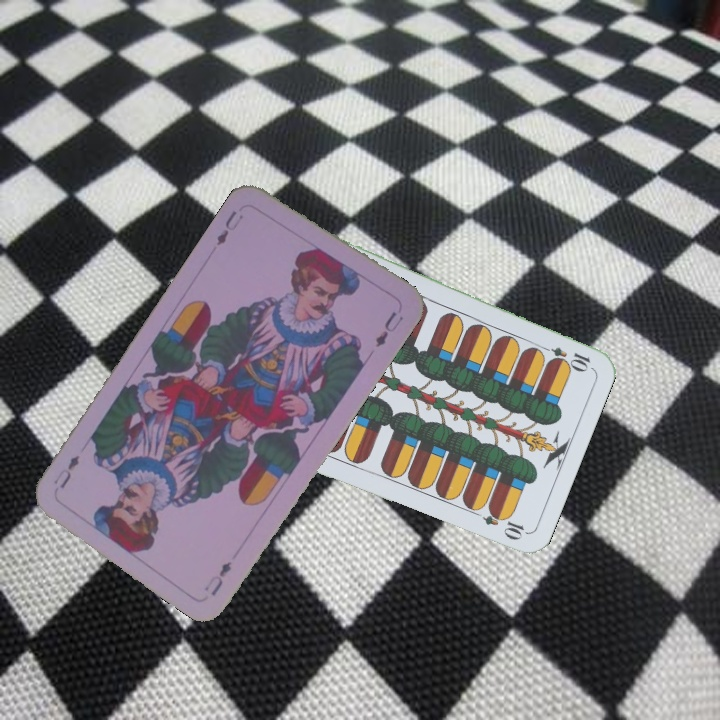E10: (535, 341, 593, 372)
EU: (200, 557, 234, 599), (212, 206, 244, 249)
